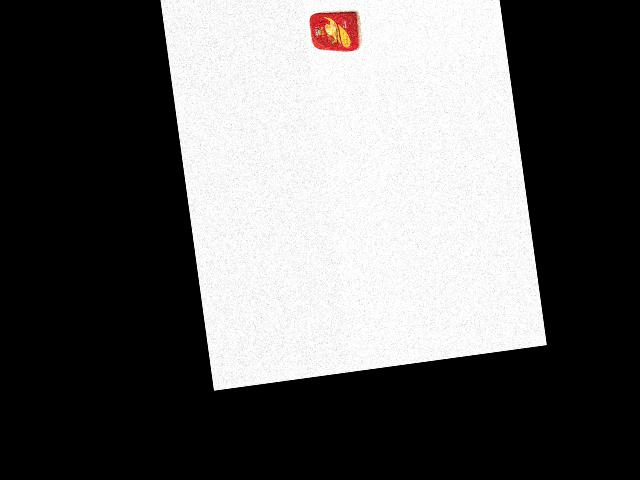cheese: (305, 6, 363, 56)
